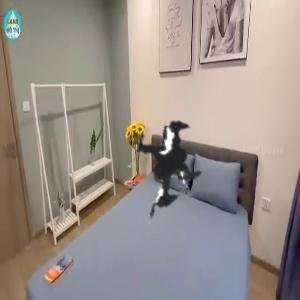drone: (11, 41, 266, 296)
